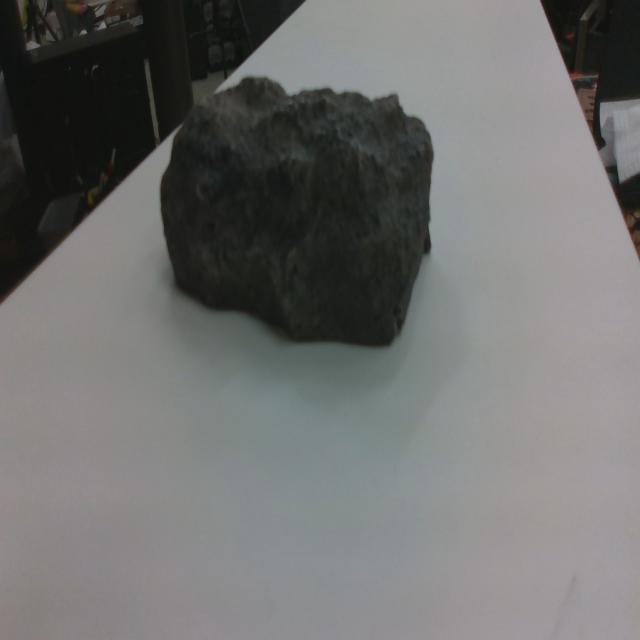stone: (160, 75, 434, 349)
